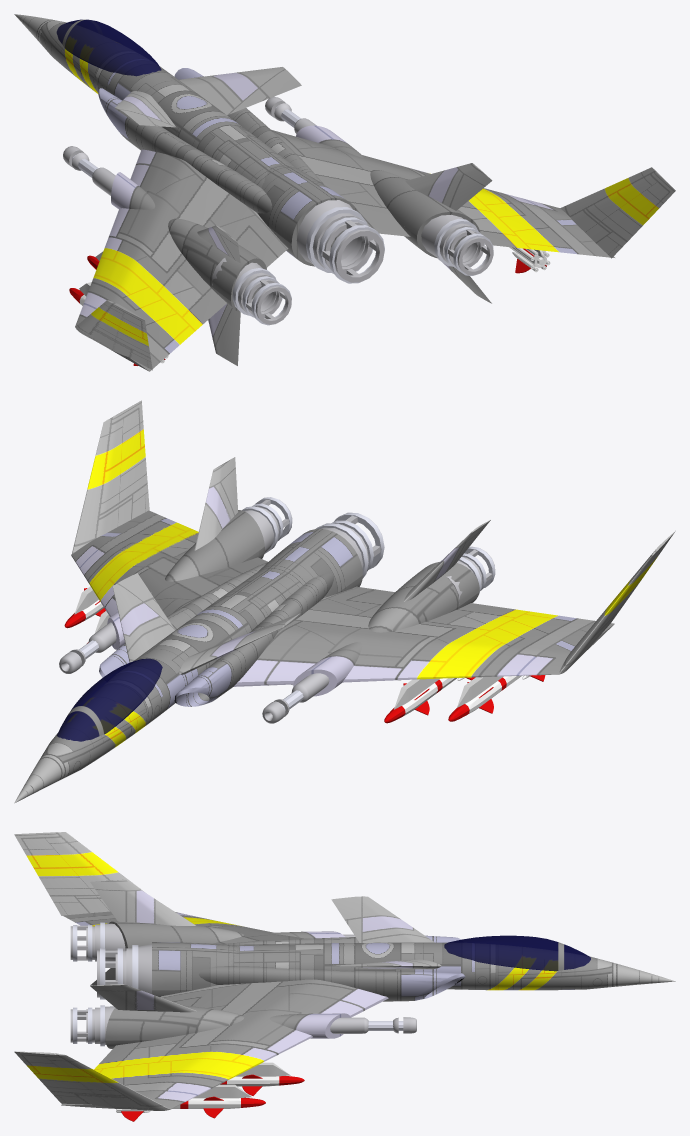
The model's file is stiletto.glb.
The picture shows the model from 3 angles, top to bottom: view 1: azimuth 30°, elevation 25°; view 2: azimuth 150°, elevation 25°; view 3: azimuth 270°, elevation 25°; orthographic projection. The views are drawn at different scales.
Parts seen in each view (by area): view 1: stiletto; view 2: stiletto; view 3: stiletto.
Boxes of the visible parts, bbox=[...] form: stiletto: bbox=[14, 14, 675, 371]; stiletto: bbox=[14, 400, 675, 803]; stiletto: bbox=[14, 832, 675, 1121].
Size of the model in its own units: 3365 by 766 by 4220.
11 materials, 6 textured.
